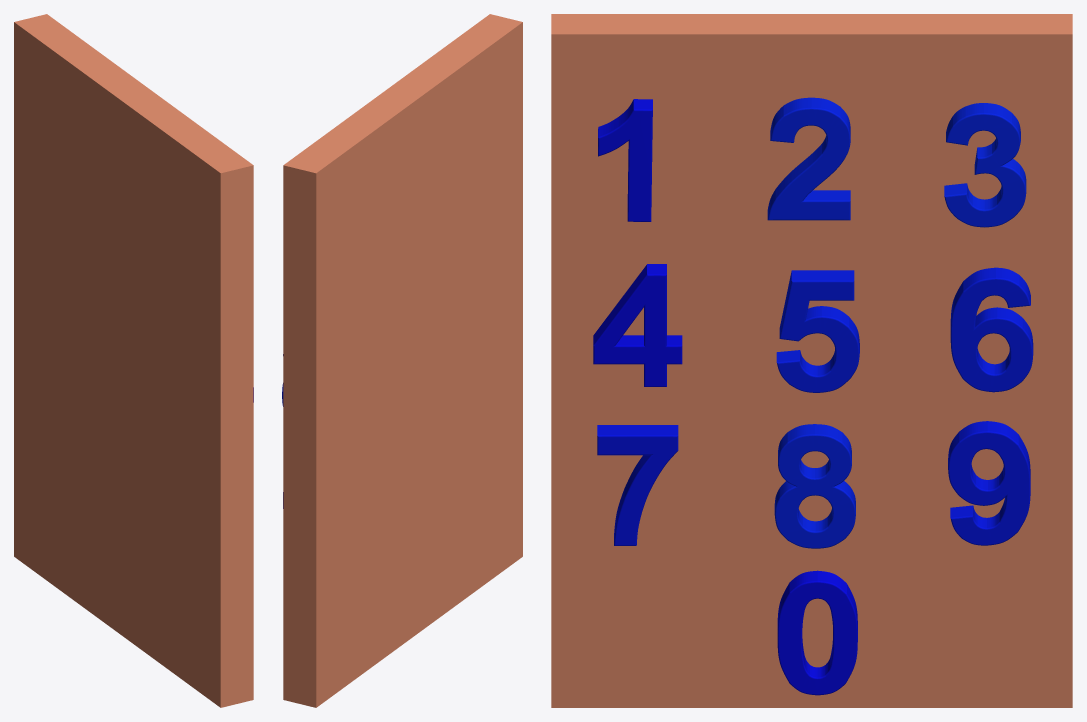
The model's file is number_board.fbx.
3 views of the same model, side by side, from view 1: azimuth 30°, elevation 25°; view 2: azimuth 150°, elevation 25°; view 3: azimuth 270°, elevation 25° (orthographic). The views are drawn at different scales.
Parts seen in each view (by area): view 1: Cube; view 2: Cube; view 3: Cube, Number8_v1, Number9_v1, Number6_v1, Number5_v1, Number2_v1, Number0_v1, Number3_v1, Number4_v1, Number7_v1, Number1_v1.
Part boxes in pixels (x1,y1,x2,y2): Cube: [14, 14, 253, 707]; Cube: [283, 14, 522, 707]; Cube: [551, 14, 1072, 707]; Number8_v1: [774, 424, 855, 548]; Number9_v1: [948, 421, 1030, 545]; Number6_v1: [950, 267, 1033, 392]; Number5_v1: [776, 270, 859, 392]; Number2_v1: [767, 97, 850, 220]; Number0_v1: [777, 570, 857, 695]; Number3_v1: [944, 103, 1026, 227]; Number4_v1: [593, 264, 682, 386]; Number7_v1: [597, 425, 678, 545]; Number1_v1: [598, 99, 652, 221].
Size of the model in its own units: 236 by 2404 by 1685.
